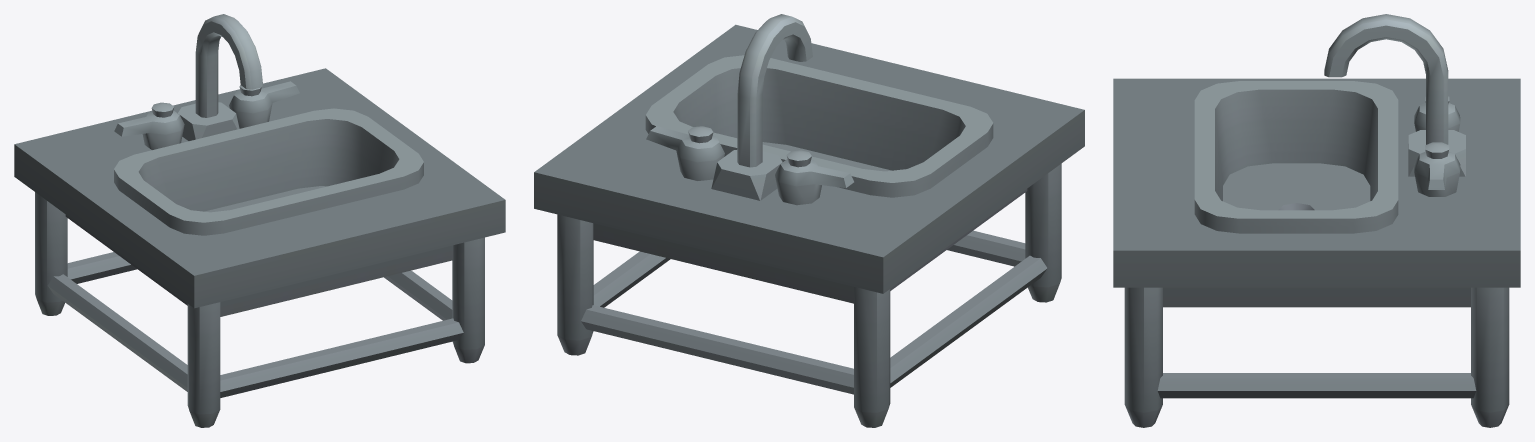
File: kitchentable-sink.glb
3 renders of one model, left to right at view 1: azimuth 30°, elevation 25°; view 2: azimuth 150°, elevation 25°; view 3: azimuth 270°, elevation 25°, orthographic. The views are drawn at different scales.
Parts seen in each view (by area): view 1: kitchentable_sink; view 2: kitchentable_sink; view 3: kitchentable_sink.
Part boxes in pixels (left/top/right/bottom): kitchentable_sink: left=14, top=14, right=505, bottom=427; kitchentable_sink: left=534, top=14, right=1084, bottom=427; kitchentable_sink: left=1113, top=14, right=1520, bottom=427.
Size of the model in its own units: 2 by 1.81 by 2.
Materials: 1 (1 with a texture image).
